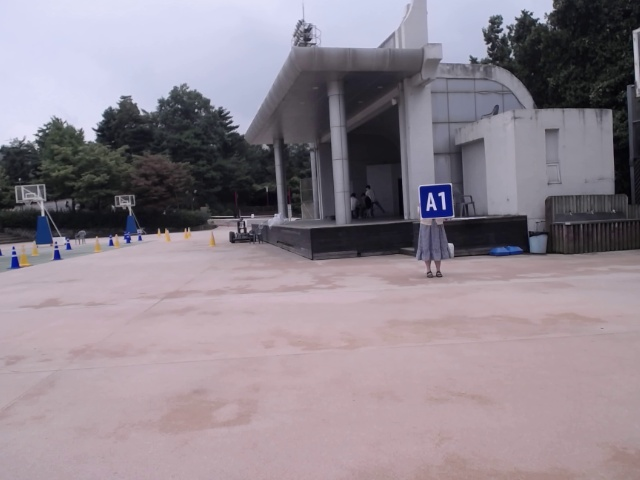delivery_a1: (418, 183, 454, 219)
